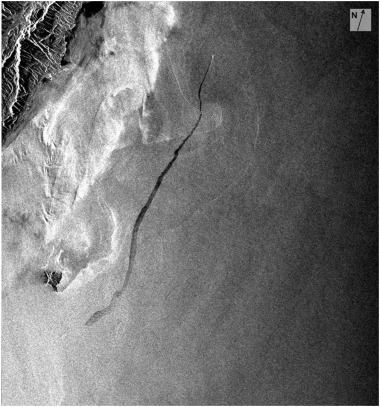anomaly: (27, 255, 125, 317)
